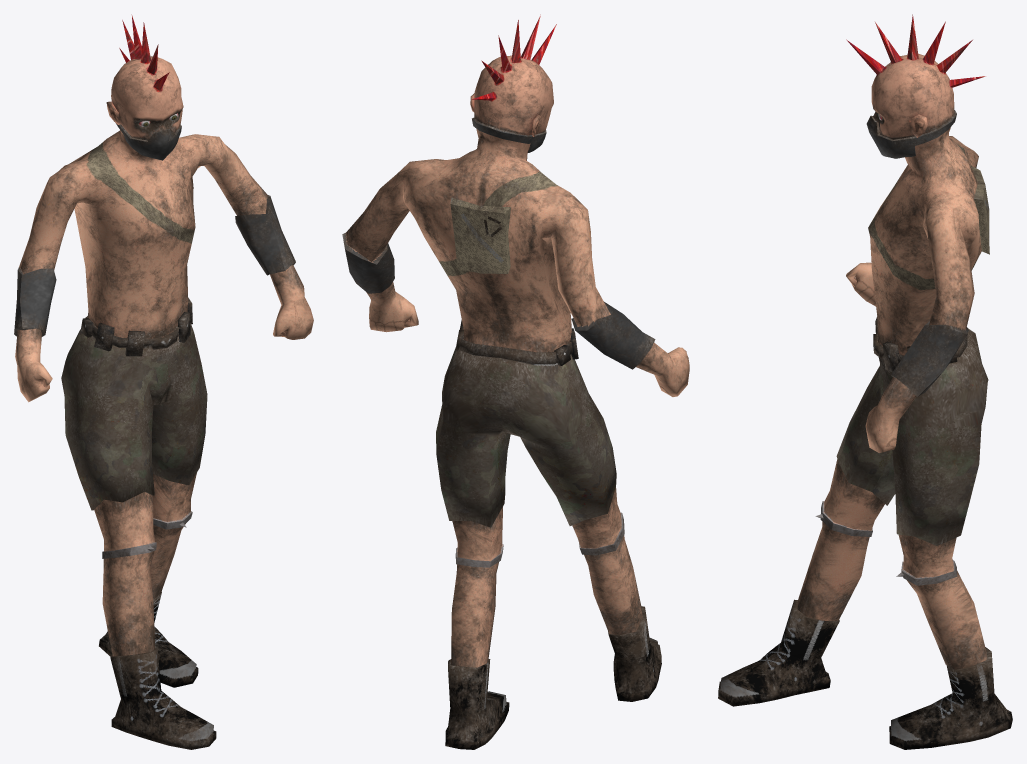
File: Anim_interruptor_npc2.0020.obj
The picture shows the model from 3 angles, left to right: view 1: azimuth 30°, elevation 25°; view 2: azimuth 150°, elevation 25°; view 3: azimuth 270°, elevation 25°; orthographic projection. The views are drawn at different scales.
Parts seen in each view (by area): view 1: polySurface1; view 2: polySurface1; view 3: polySurface1.
Boxes of the visible parts, x1,y1,x2,y2 form: polySurface1: (14, 14, 313, 749); polySurface1: (342, 14, 689, 749); polySurface1: (718, 14, 1012, 749).
Size of the model in its own units: 4.62 by 10.05 by 3.78.
